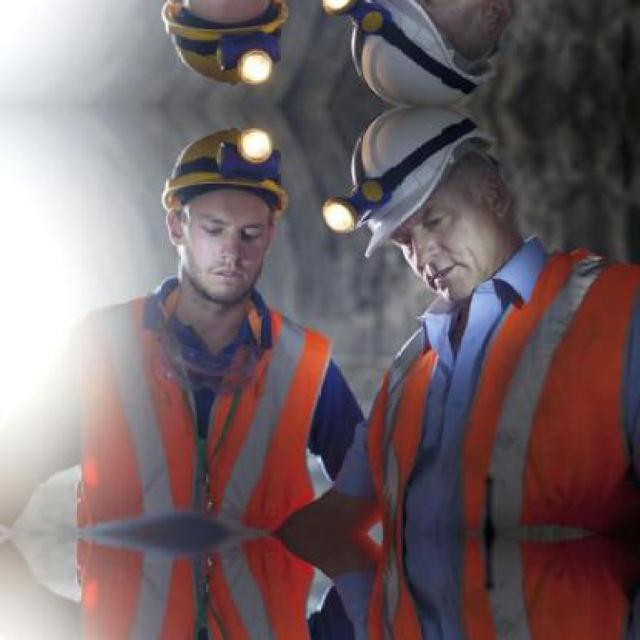helmet: (324, 107, 528, 308), (144, 124, 296, 328), (323, 0, 529, 106), (143, 0, 297, 89)
